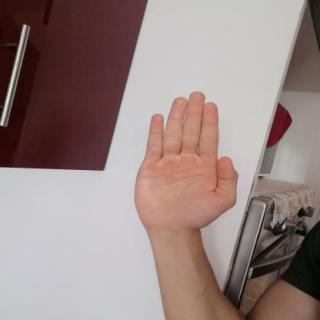SEEN: (124, 85, 246, 236)
